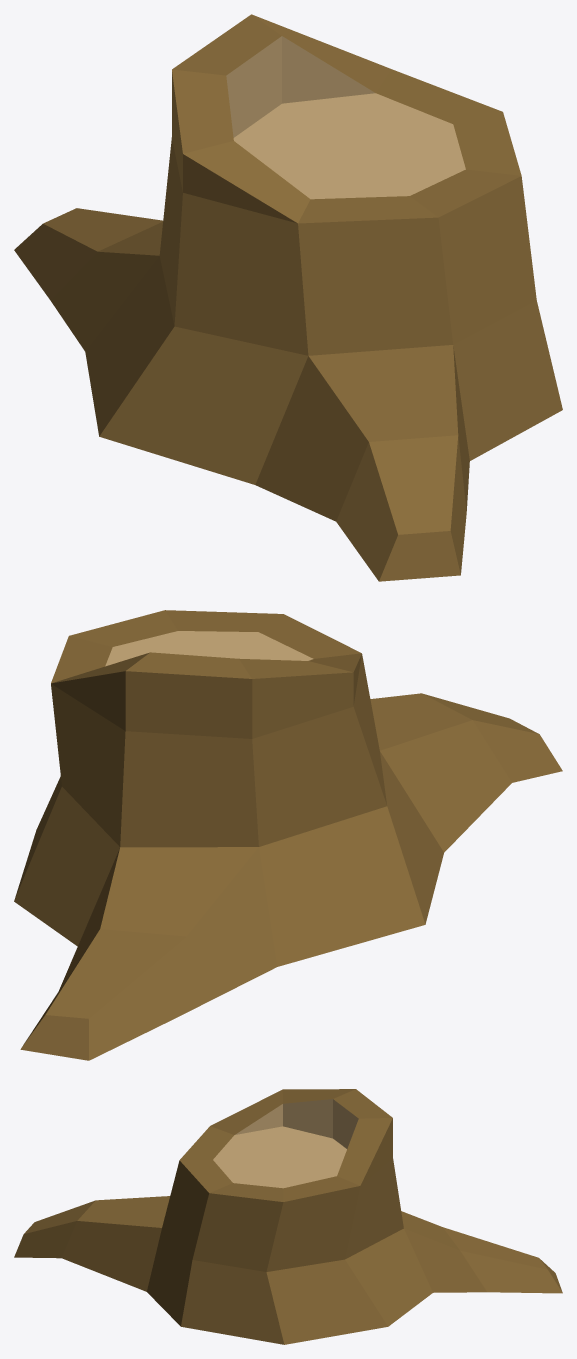
The model's file is trunk3.fbx.
The picture shows the model from 3 angles, top to bottom: view 1: azimuth 30°, elevation 25°; view 2: azimuth 150°, elevation 25°; view 3: azimuth 270°, elevation 25°; orthographic projection. The views are drawn at different scales.
Visible parts, largest first — view 1: trunk3_LOD0; view 2: trunk3_LOD0; view 3: trunk3_LOD0.
Boxes of the visible parts, <box> form: trunk3_LOD0: <box>14,14,562,581</box>; trunk3_LOD0: <box>14,610,562,1060</box>; trunk3_LOD0: <box>14,1089,562,1344</box>.
Size of what is drawn, in the model's own units: 2.02 by 1.38 by 3.75.
